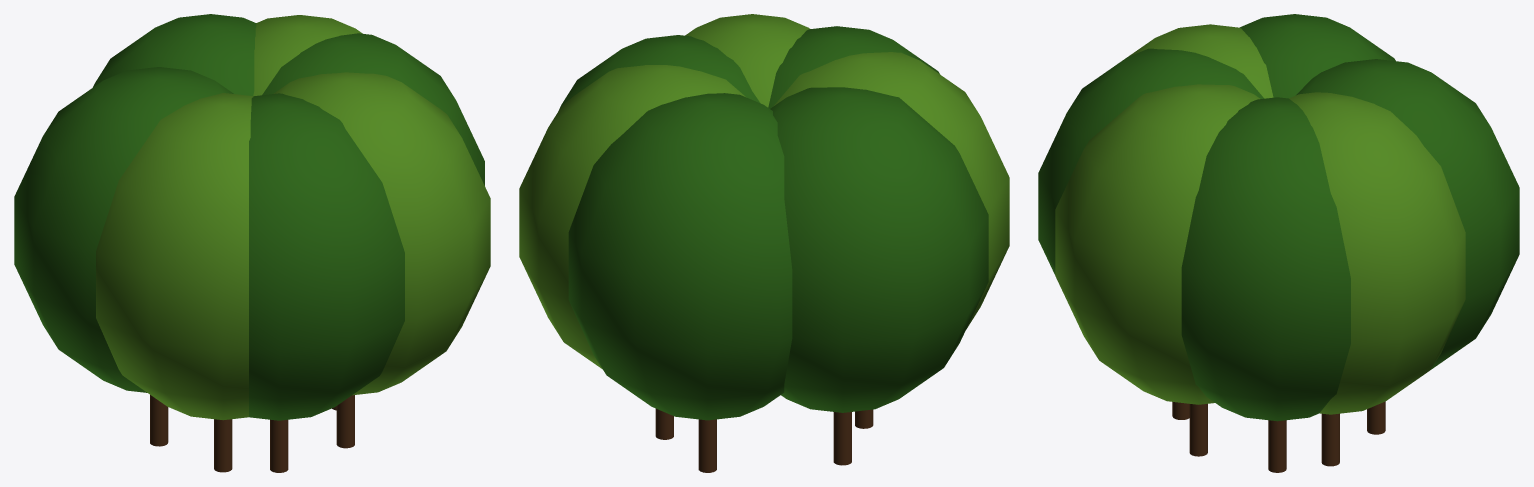
Rendered from Bokor.obj.
The picture shows the model from 3 angles, left to right: view 1: azimuth 30°, elevation 25°; view 2: azimuth 150°, elevation 25°; view 3: azimuth 270°, elevation 25°; orthographic projection.
Size of the model in its own units: 1.32 by 1.08 by 1.31.
